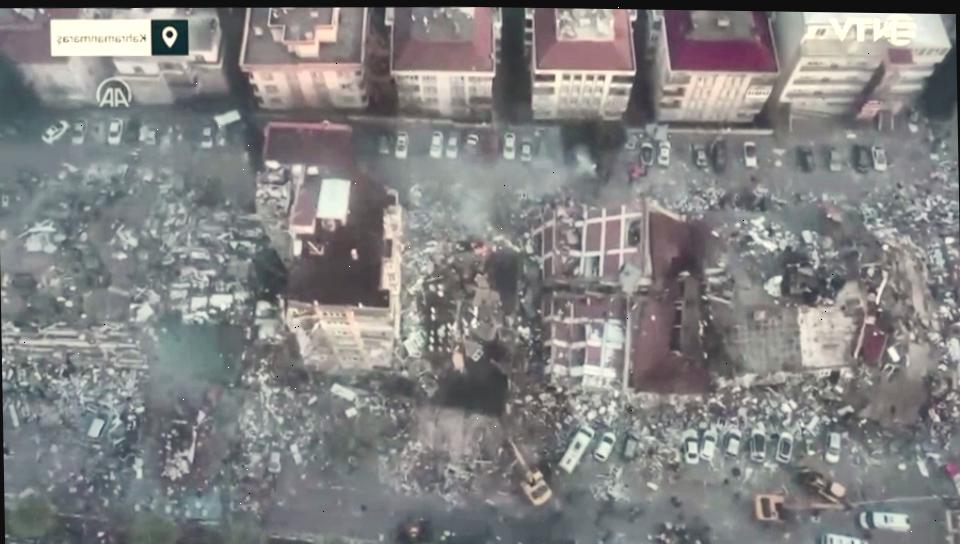kapali: (2, 398, 320, 541)
